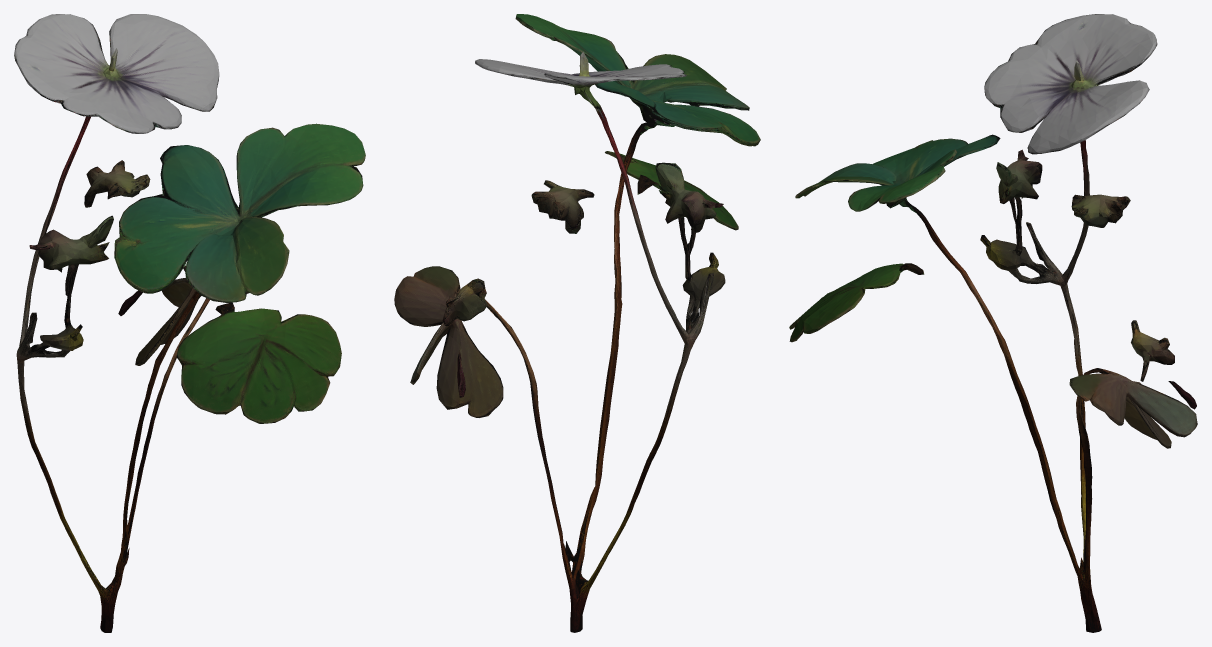
Rendered from 6c92cb29-7923-4e3d-831c-4bcf7e4143ff copy.glb.
The picture shows the model from 3 angles, left to right: view 1: azimuth 30°, elevation 25°; view 2: azimuth 150°, elevation 25°; view 3: azimuth 270°, elevation 25°; orthographic projection. The views are drawn at different scales.
Parts seen in each view (by area): view 1: world; view 2: world; view 3: world.
Part boxes in pixels (x1,y1,x2,y2): world: (14,14,365,632); world: (394,14,760,632); world: (789,14,1197,632).
Bounding box in the file's own units: 0.4885 × 0.9577 × 0.6088.
Materials: 1 (1 with a texture image).
